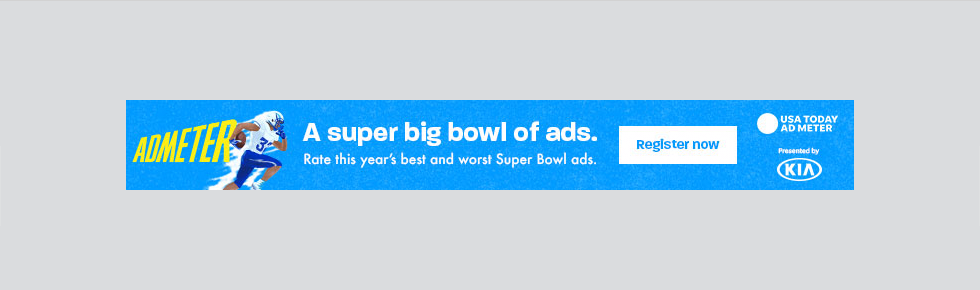fake_button: (611, 117, 747, 180)
